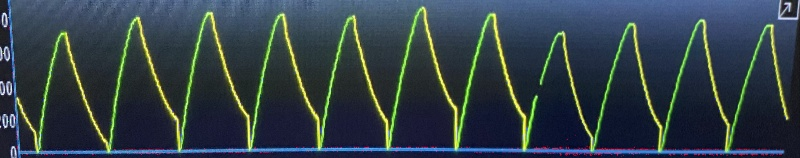leakage: (31, 2, 734, 154)
